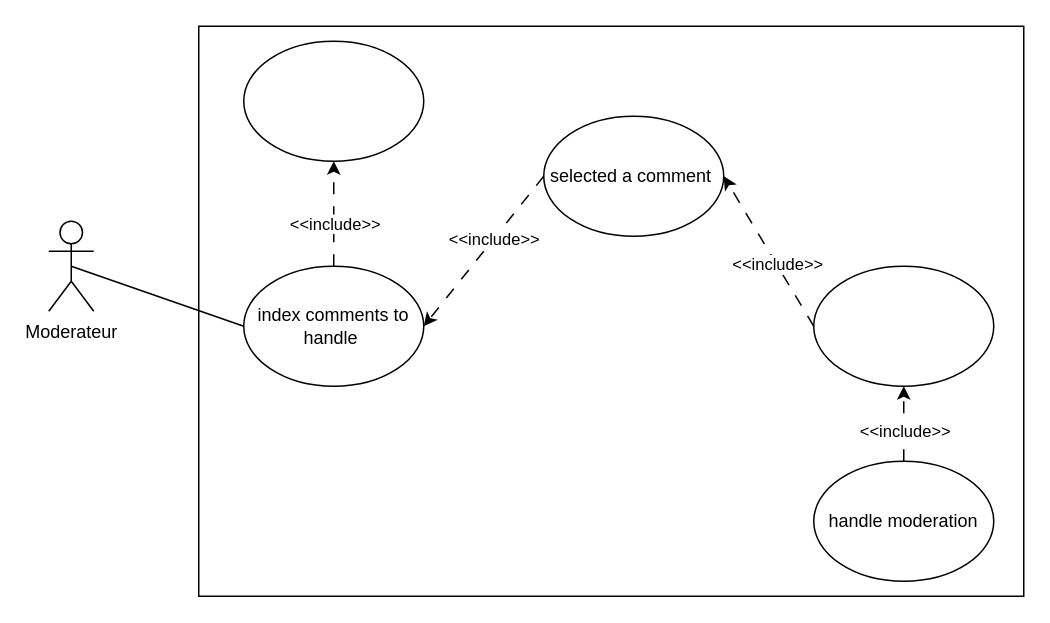
This 1050x623 diagram has some shape labels left out. Here are the shapes that lost their labels. From the top down, the centre of each, then its label:
At point (333, 100): "authentification".
At point (903, 325): "Read comment".
